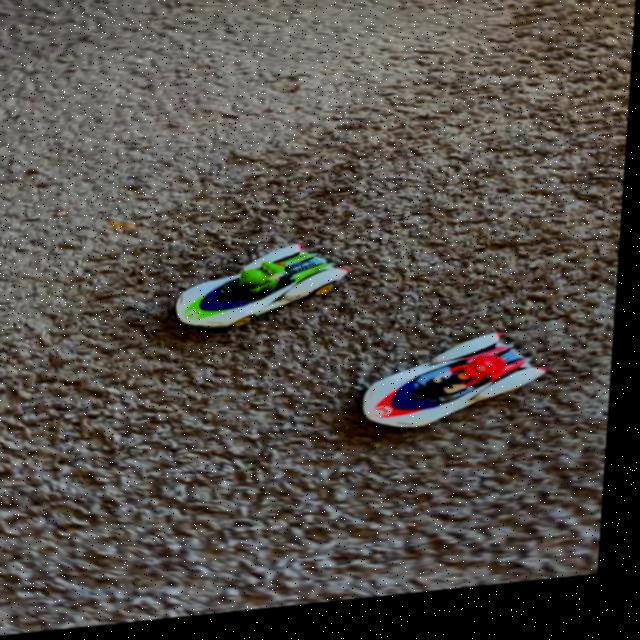mario: (348, 332, 567, 453)
yoshi: (162, 243, 366, 347)
